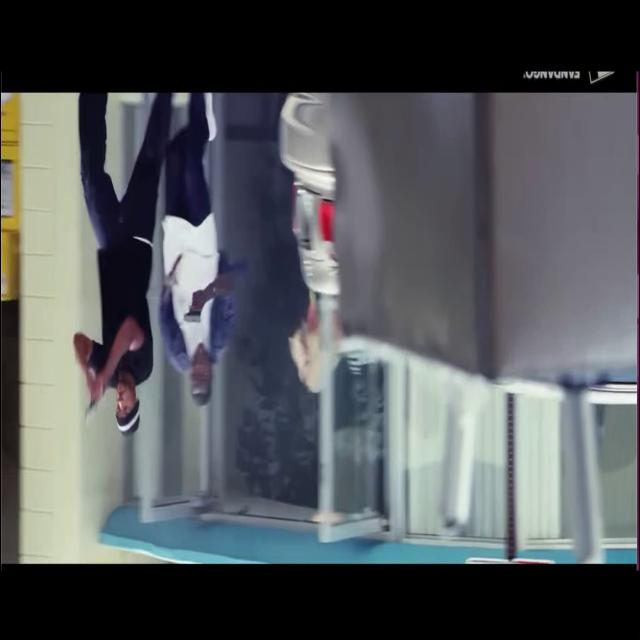weapons: (171, 281, 210, 329), (79, 366, 110, 426)
